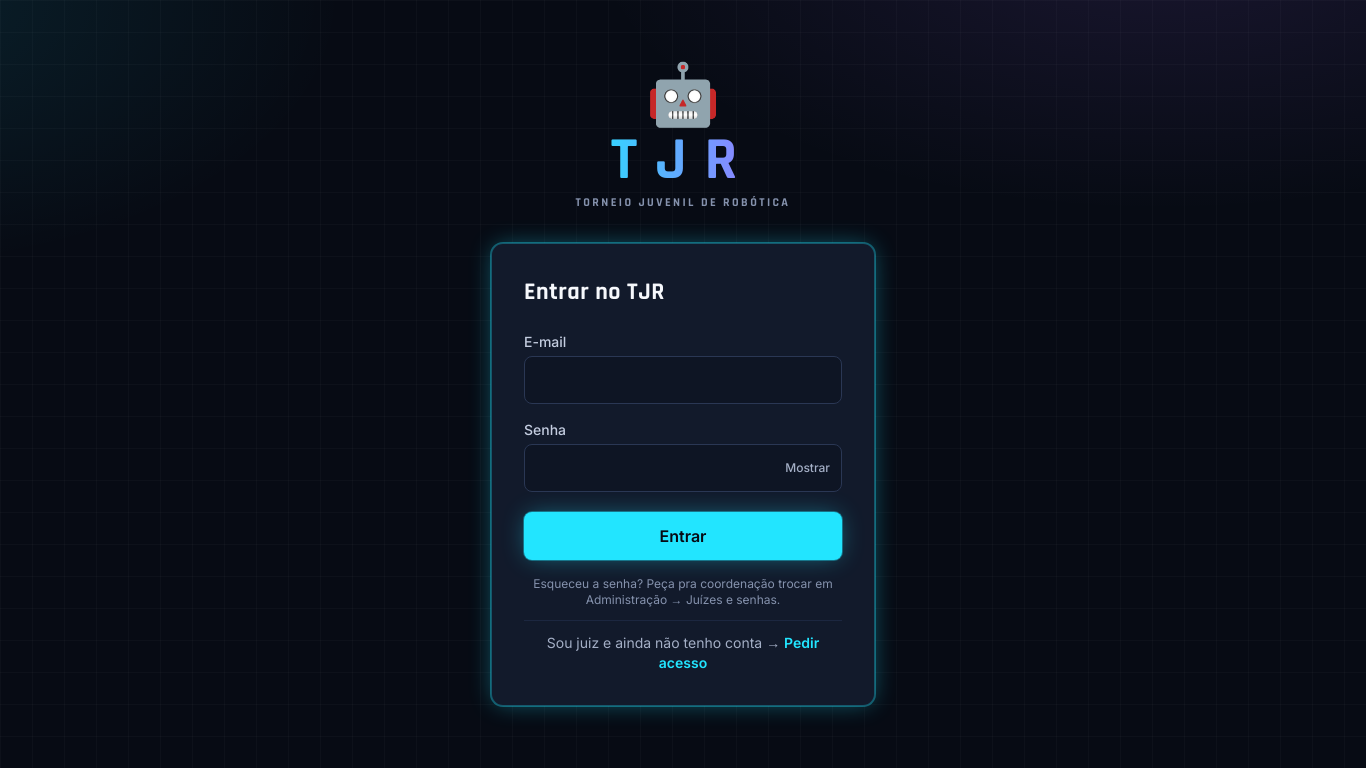
LoginPage › mostra erro de validacao ao submeter vazio
The image size is (1366, 768).
Click the button "Entrar" at (683, 536), box [524,512,842,560]
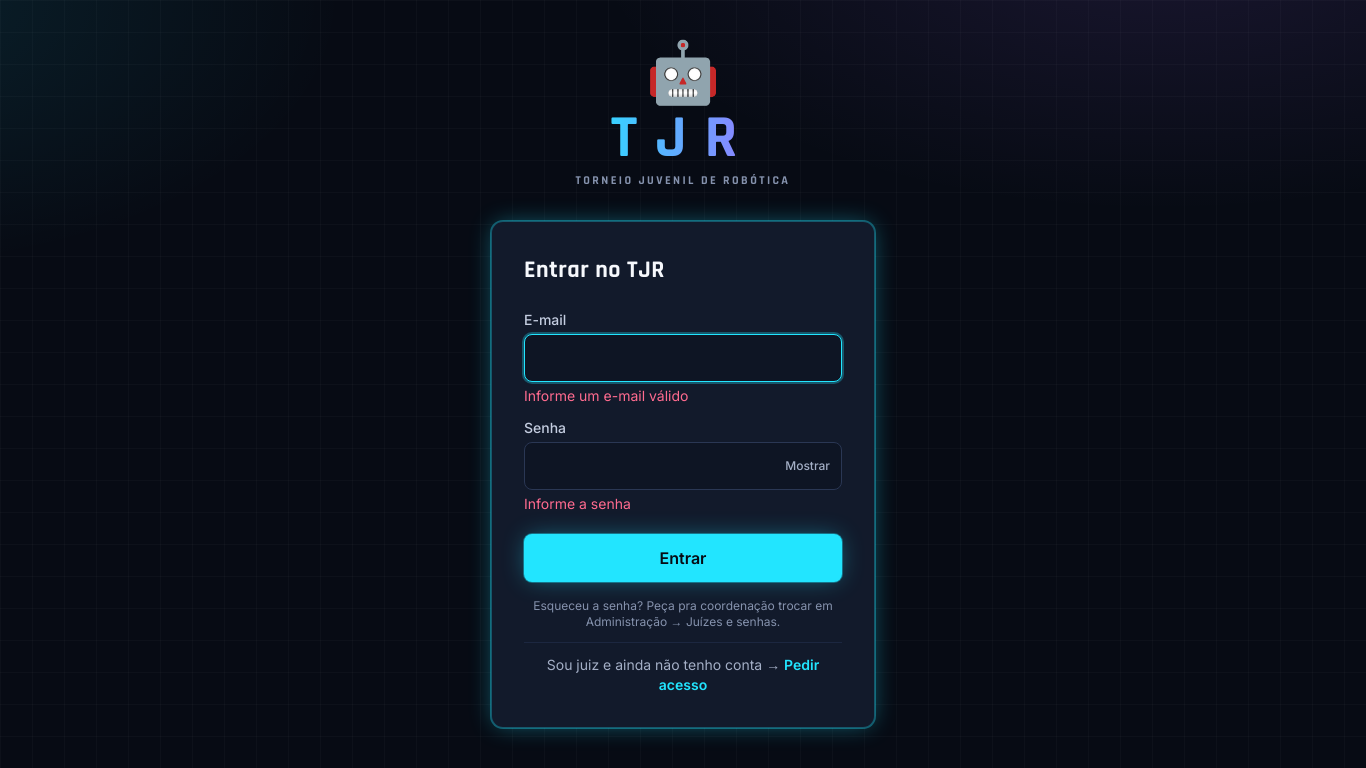
expect the text "Informe um e-mail válido" is shown: met, box [524,386,688,404]
